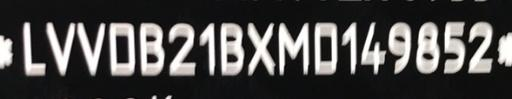letter: (276, 19, 310, 78), (74, 19, 106, 78), (44, 20, 76, 79), (245, 20, 277, 77), (136, 19, 166, 78), (107, 19, 137, 78), (166, 21, 198, 76), (360, 18, 388, 77), (312, 19, 340, 78), (217, 19, 245, 78), (467, 19, 495, 76), (440, 17, 466, 74), (21, 20, 47, 77), (386, 20, 412, 75), (414, 20, 440, 75), (198, 20, 218, 77), (340, 21, 360, 76)
